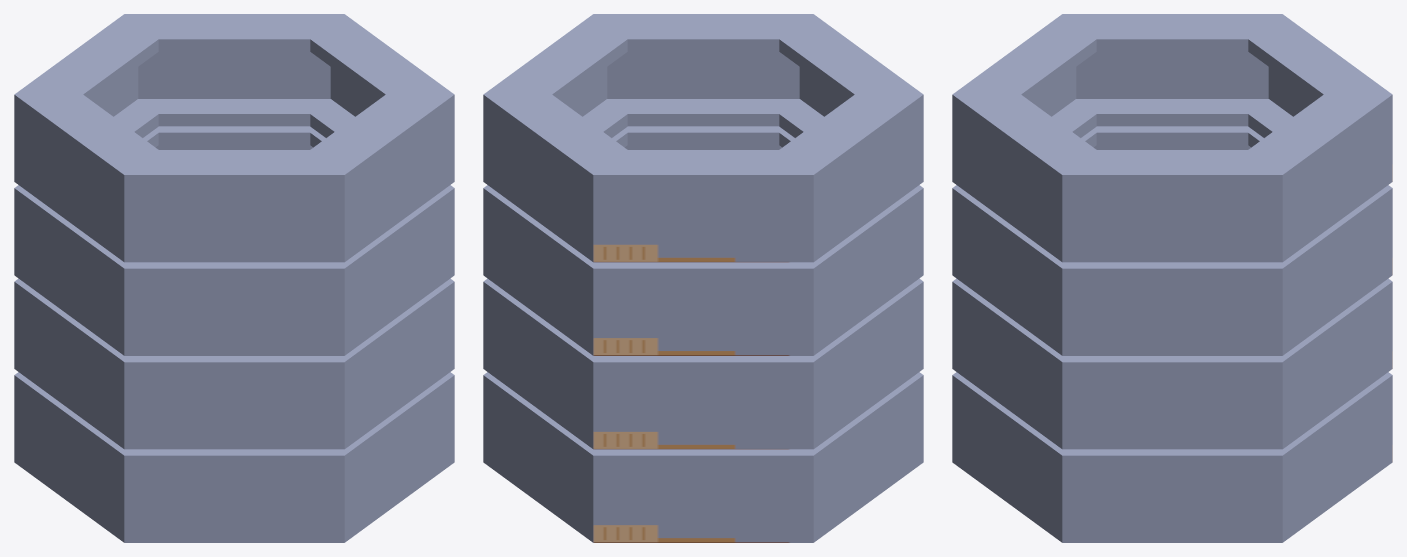
Rendered from tire_stack.FBX.
3 views of the same model, side by side, from view 1: azimuth 30°, elevation 25°; view 2: azimuth 150°, elevation 25°; view 3: azimuth 270°, elevation 25° (orthographic).
Parts seen in each view (by area): view 1: tire_stack; view 2: tire_stack; view 3: tire_stack.
Part boxes in pixels (left/top/right/bottom): tire_stack: left=14, top=14, right=454, bottom=542; tire_stack: left=483, top=14, right=923, bottom=542; tire_stack: left=952, top=14, right=1392, bottom=542.
Bounding box in the file's own units: 111 × 118 × 128.
